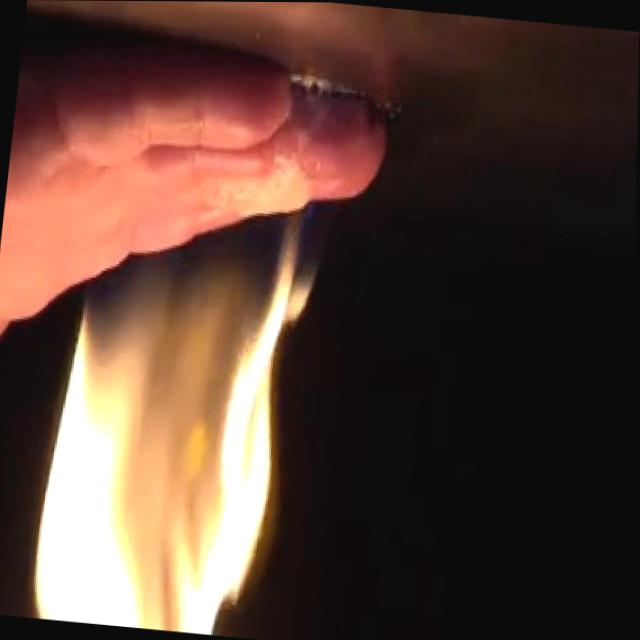helmet: (22, 151, 330, 640)
